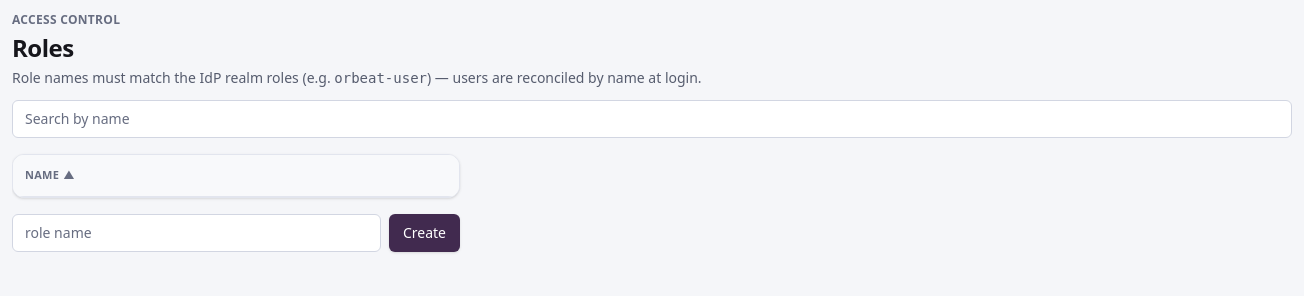
Test: create surfaces 409 inline
In the field labelled "role name": (196, 232) [12, 214, 381, 252], type "orbeat-user"
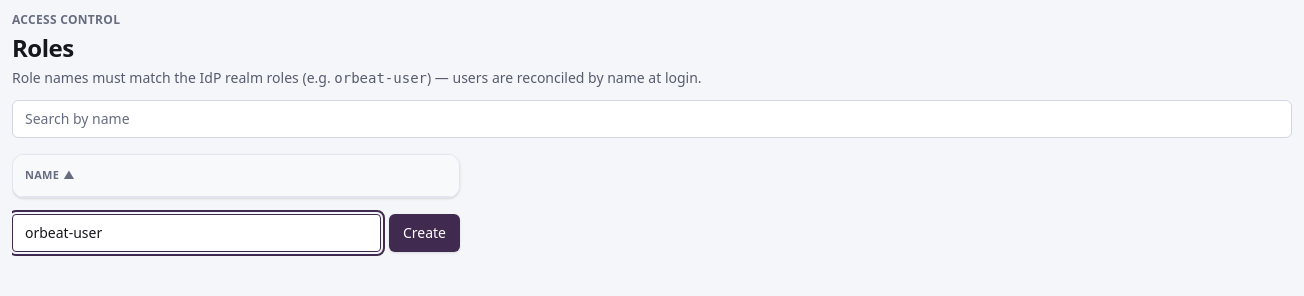
Click the button "Create": (424, 232) [389, 214, 460, 252]
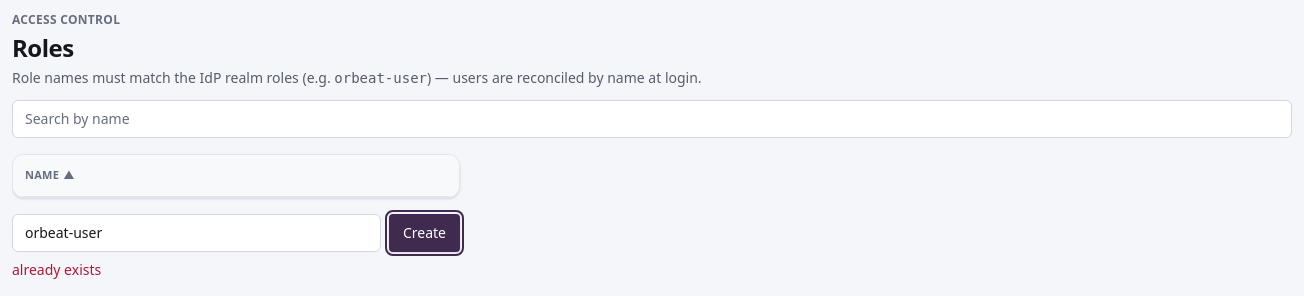
Expected: the text "already exists" is shown, [12, 260, 101, 278]
